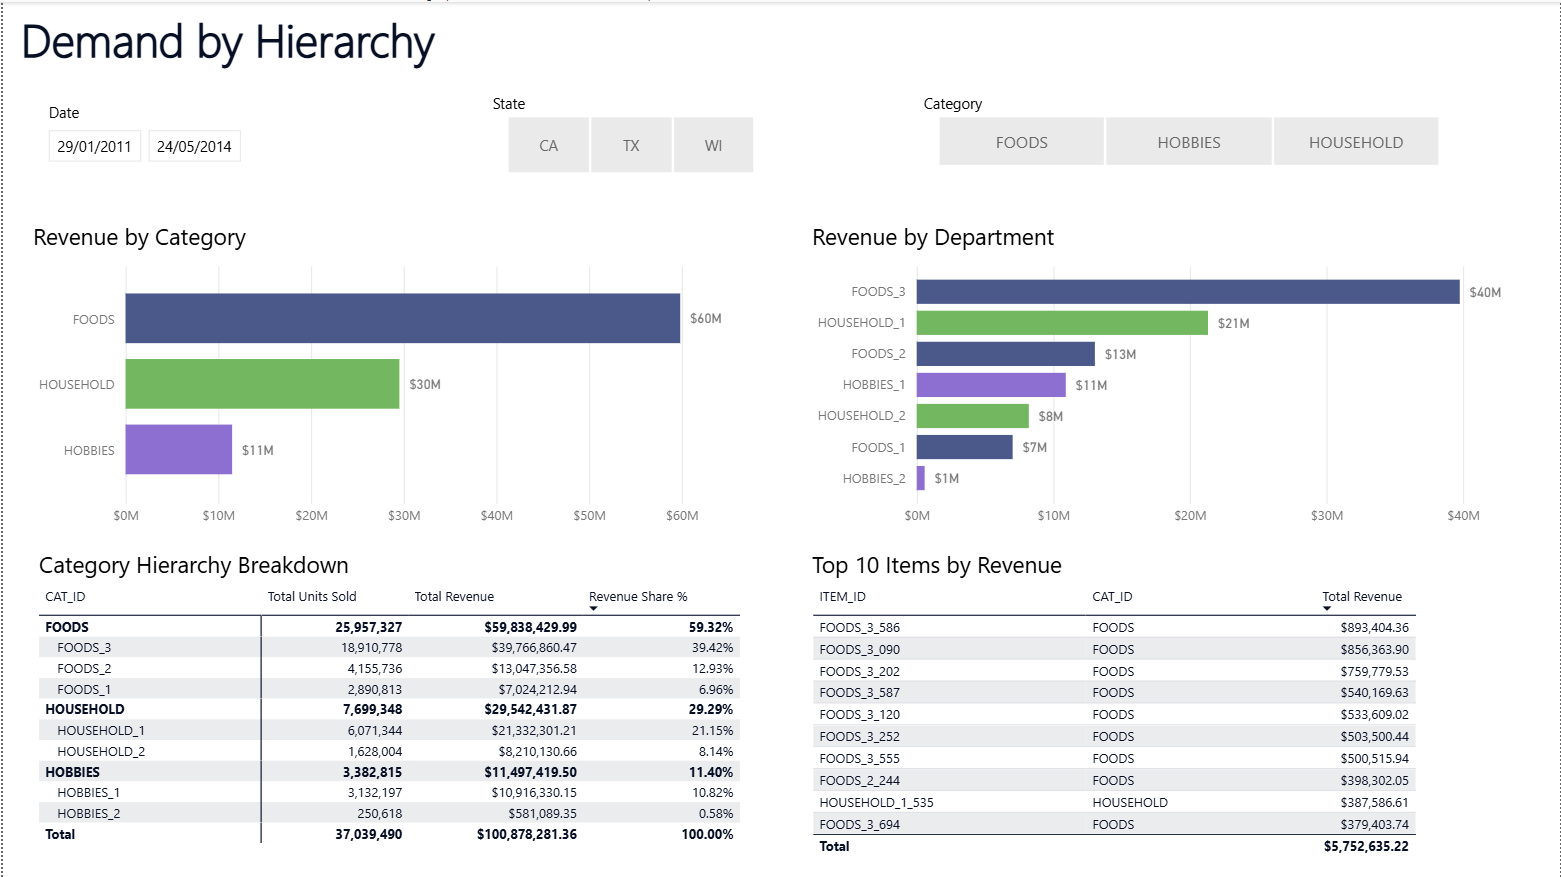

Layout of this report page (visuals, bound fields, positions):
{"tool":"powerbi","page":{"name":"Demand by Hierarchy","canvas":[1280,720],"ordinal":1},"visuals":[{"type":"slicer","fields":{"Values":["DIM_CALENDAR.CALENDAR_DATE"]},"box":[10.2,88.7,366.9,110.1],"z":0},{"type":"slicer","fields":{"Values":["DIM_ITEM.CAT_ID"]},"box":[840,65.8,367.4,158.6],"z":1000},{"type":"slicer","fields":{"Values":["DIM_STORE.STATE_ID"]},"box":[407.6,88.7,366.9,117.2],"z":2000},{"type":"clusteredBarChart","fields":{"Category":["DIM_ITEM.CAT_ID"]},"box":[407.7,65.8,366.6,158.6],"z":3000}]}

Visuals, with their boxes in screenshot pixels (x1, y1, x2, y2), scaled from the page's 1280x720 canvas onto the 1561x877 screenshot:
slicer - DIM_CALENDAR.CALENDAR_DATE: 12,108,460,242
slicer - DIM_ITEM.CAT_ID: 1024,80,1472,273
slicer - DIM_STORE.STATE_ID: 497,108,945,251
clusteredBarChart - DIM_ITEM.CAT_ID: 497,80,944,273
